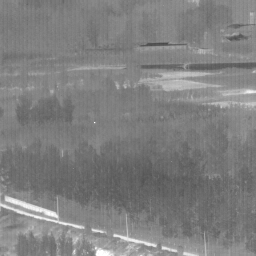aircraft: (94, 122, 96, 124)
